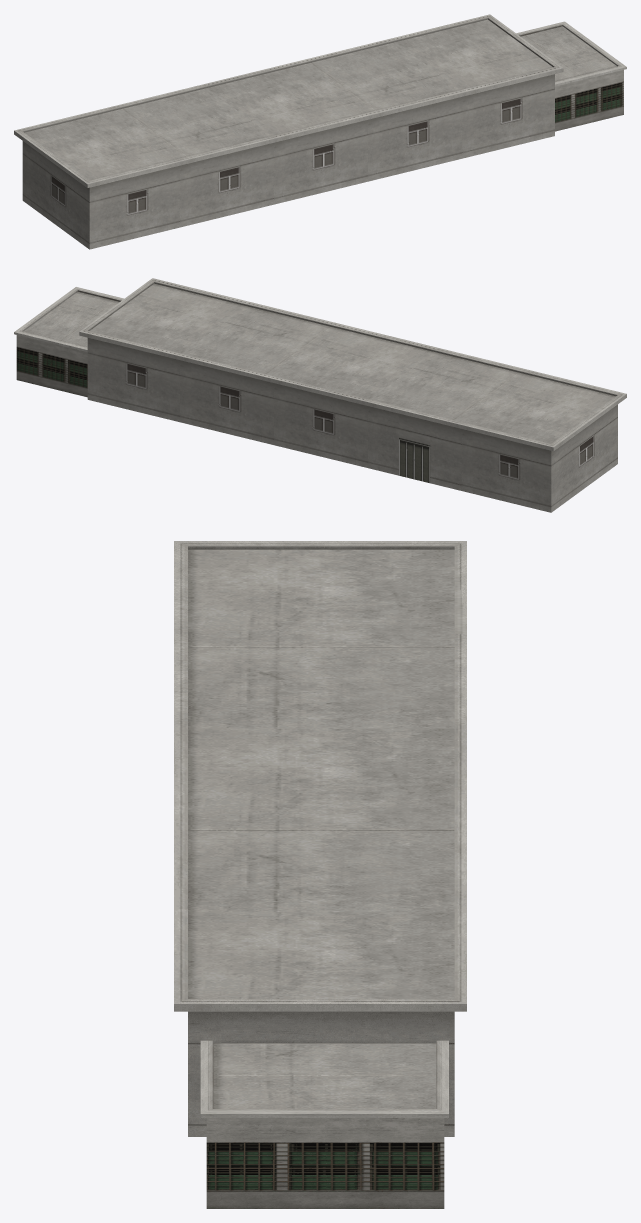
Rendered from workshop_04.obj.
3 views of the same model, one above another, from view 1: azimuth 30°, elevation 25°; view 2: azimuth 150°, elevation 25°; view 3: azimuth 270°, elevation 25° (orthographic). The views are drawn at different scales.
Parts seen in each view (by area): view 1: Box074; view 2: Box074; view 3: Box074.
Boxes of the visible parts, x1=… form: Box074: x1=14, y1=14, x2=626, y2=249; Box074: x1=14, y1=278, x2=626, y2=512; Box074: x1=174, y1=541, x2=466, y2=1208.
Bounding box in the file's own units: 138 × 16.77 × 32.22.
